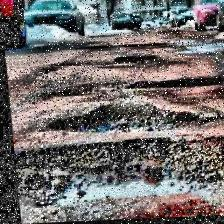pothole: (11, 133, 224, 209), (43, 99, 209, 137), (122, 78, 224, 92)
